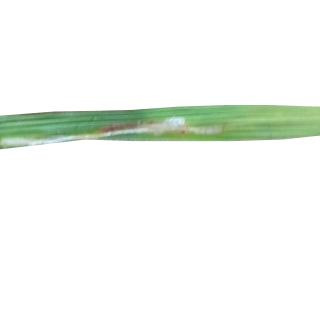Hawar-Daun: (86, 127, 226, 136), (160, 114, 187, 138), (1, 138, 42, 146)
